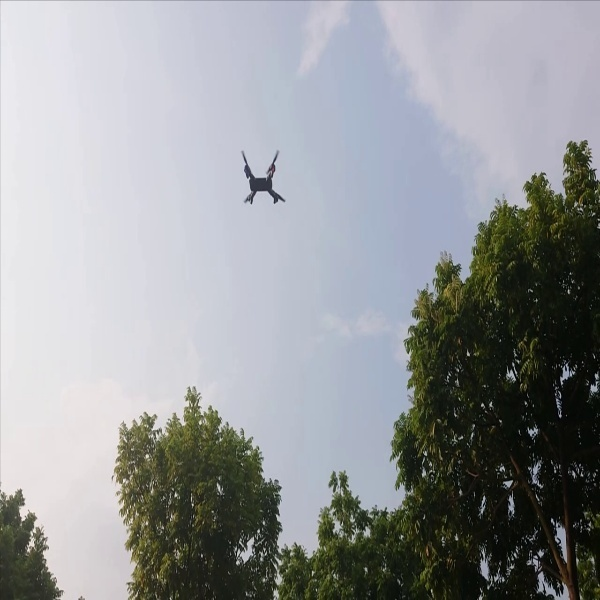drone: (226, 143, 301, 212)
